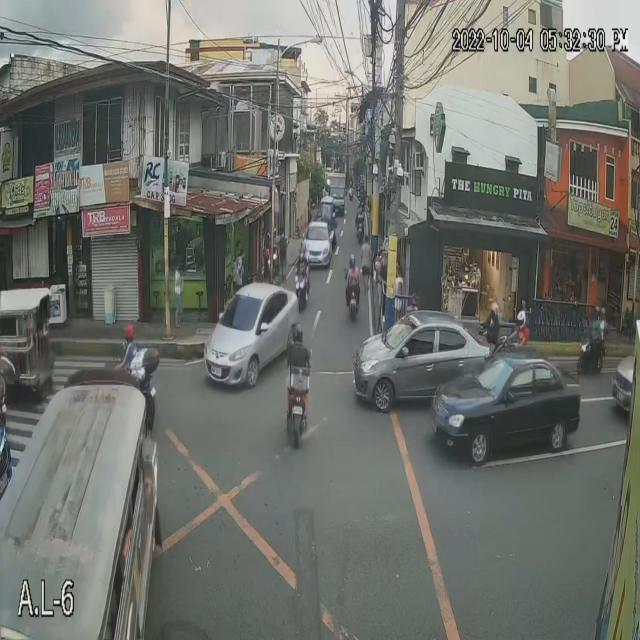full: (292, 319, 304, 346), (517, 308, 529, 328)
half: (123, 321, 136, 342)
